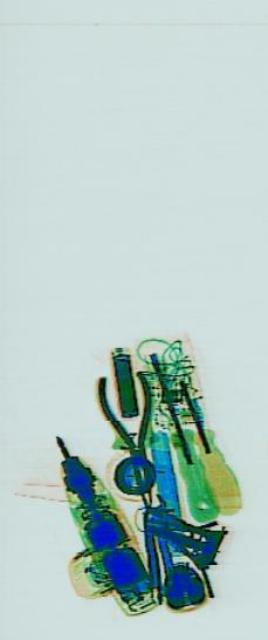Pliers: (92, 337, 166, 526)
Wrench: (142, 486, 180, 598)
